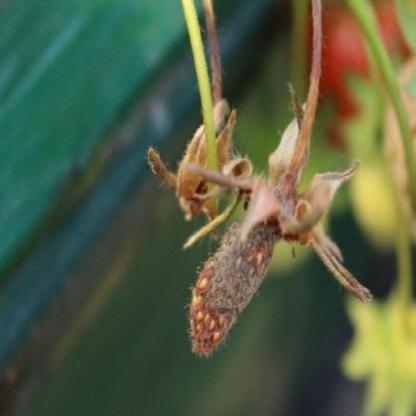Strawberry_Gray_Mold: (188, 100, 374, 356)
